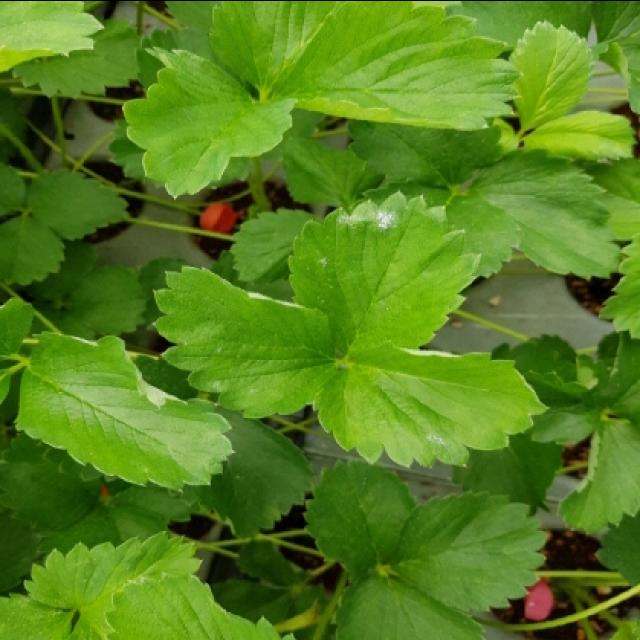Powdery Mildew Leaf: (11, 329, 236, 493), (286, 189, 484, 362), (310, 337, 549, 471), (151, 261, 340, 420)
